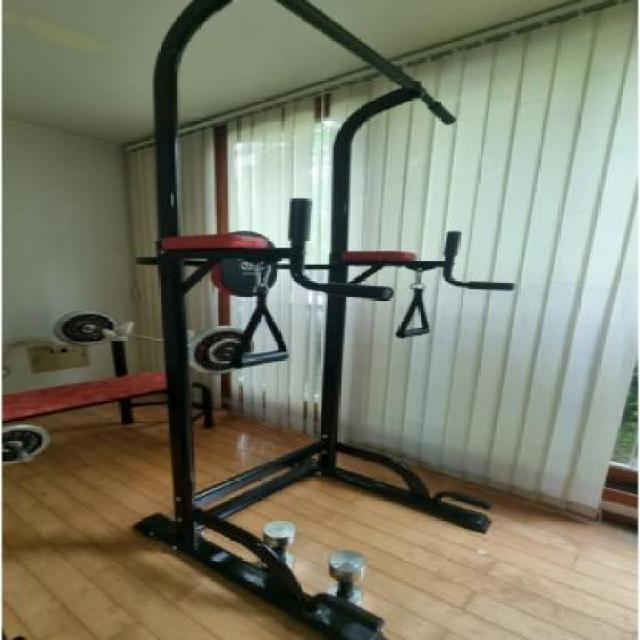chinning dipping: (156, 0, 522, 640)
